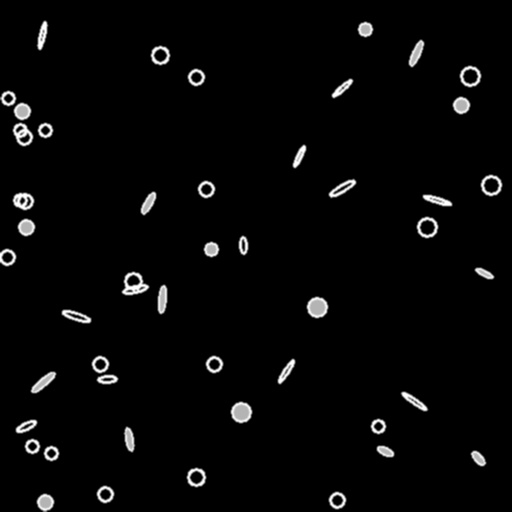pseudomonas: (30, 370, 56, 394), (328, 178, 356, 198), (276, 358, 296, 384), (401, 391, 427, 411), (407, 39, 425, 67), (61, 308, 91, 324), (331, 78, 353, 98), (139, 191, 157, 215), (422, 193, 452, 207), (15, 418, 37, 434), (122, 283, 148, 295), (292, 145, 306, 167), (37, 21, 47, 49), (470, 450, 486, 466), (474, 267, 494, 279), (158, 285, 166, 313), (124, 428, 134, 450), (376, 445, 394, 457), (239, 236, 247, 254), (97, 376, 117, 382)
synechocystis: (461, 67, 479, 85), (308, 298, 326, 316), (232, 403, 250, 421), (482, 176, 500, 194), (418, 218, 436, 236), (188, 469, 204, 485), (125, 273, 141, 289), (152, 47, 168, 63), (189, 70, 203, 84), (15, 104, 29, 118), (17, 130, 31, 144), (98, 487, 112, 501), (454, 98, 468, 112), (199, 182, 213, 196), (18, 194, 32, 208), (93, 357, 107, 371), (19, 220, 33, 234), (330, 493, 344, 507), (0, 250, 14, 264), (38, 495, 52, 509), (207, 357, 221, 371), (39, 124, 51, 136), (14, 194, 26, 206), (359, 23, 371, 35), (26, 440, 38, 452), (14, 124, 26, 136), (372, 420, 384, 432), (45, 447, 57, 459), (205, 243, 217, 255), (2, 92, 14, 104)
